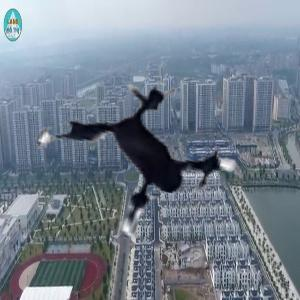drone: (20, 53, 256, 289)
